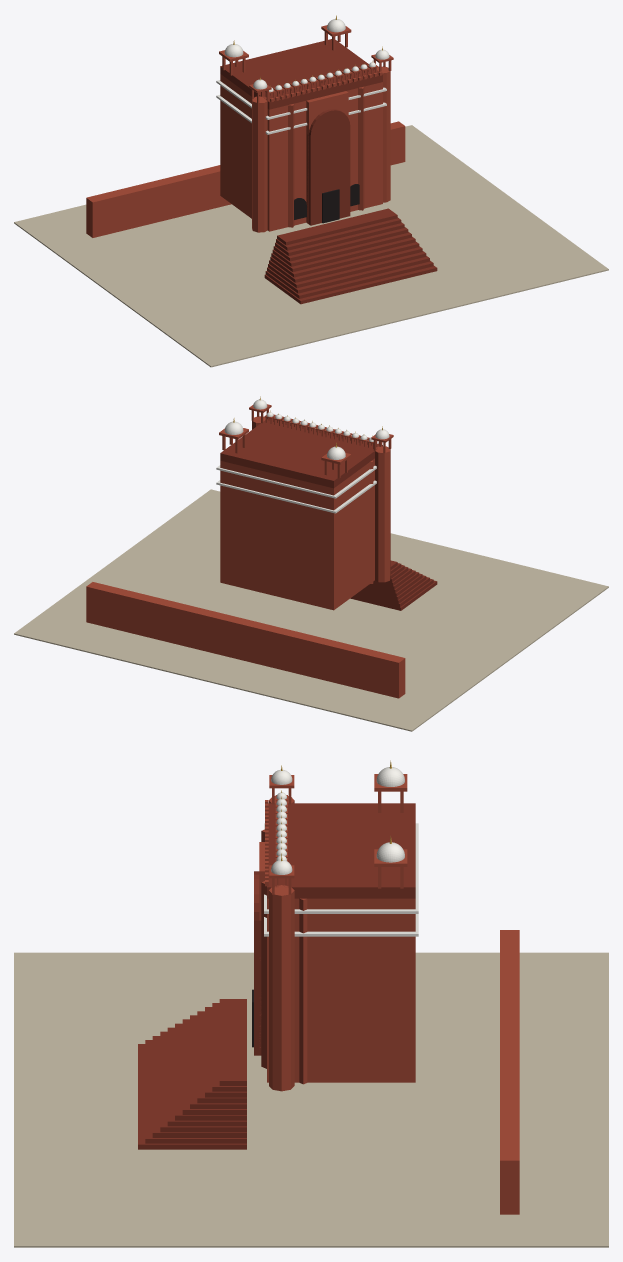
The model's file is fatehpur-sikri.glb.
3 renders of one model, top to bottom at view 1: azimuth 30°, elevation 25°; view 2: azimuth 150°, elevation 25°; view 3: azimuth 270°, elevation 25°, orthographic. The views are drawn at different scales.
Visible parts, largest first — view 1: ground, redstone, redstone_d, marble, void; view 2: ground, redstone, redstone_d, marble; view 3: ground, redstone, redstone_d, marble.
Part boxes in pixels (<box>): ground: <box>14,125,608,367</box>; redstone: <box>86,25,405,237</box>; redstone_d: <box>220,39,437,304</box>; marble: <box>216,19,389,134</box>; void: <box>294,184,359,223</box>; ground: <box>14,489,608,731</box>; redstone: <box>86,404,405,698</box>; redstone_d: <box>220,418,437,610</box>; marble: <box>216,399,389,513</box>; ground: <box>14,952,608,1247</box>; redstone: <box>259,774,519,1214</box>; redstone_d: <box>138,803,415,1149</box>; marble: <box>264,767,418,936</box>.
Size of the model in its own units: 140 by 67.46 by 120.
